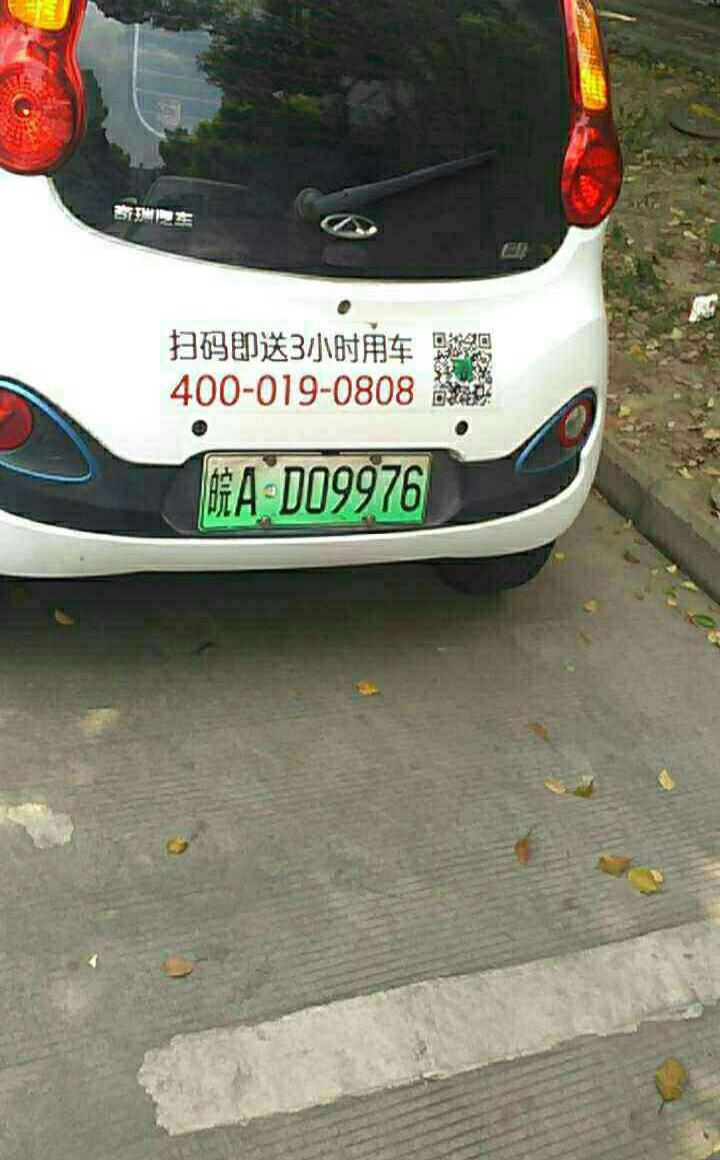car_id: (200, 455, 438, 532)
